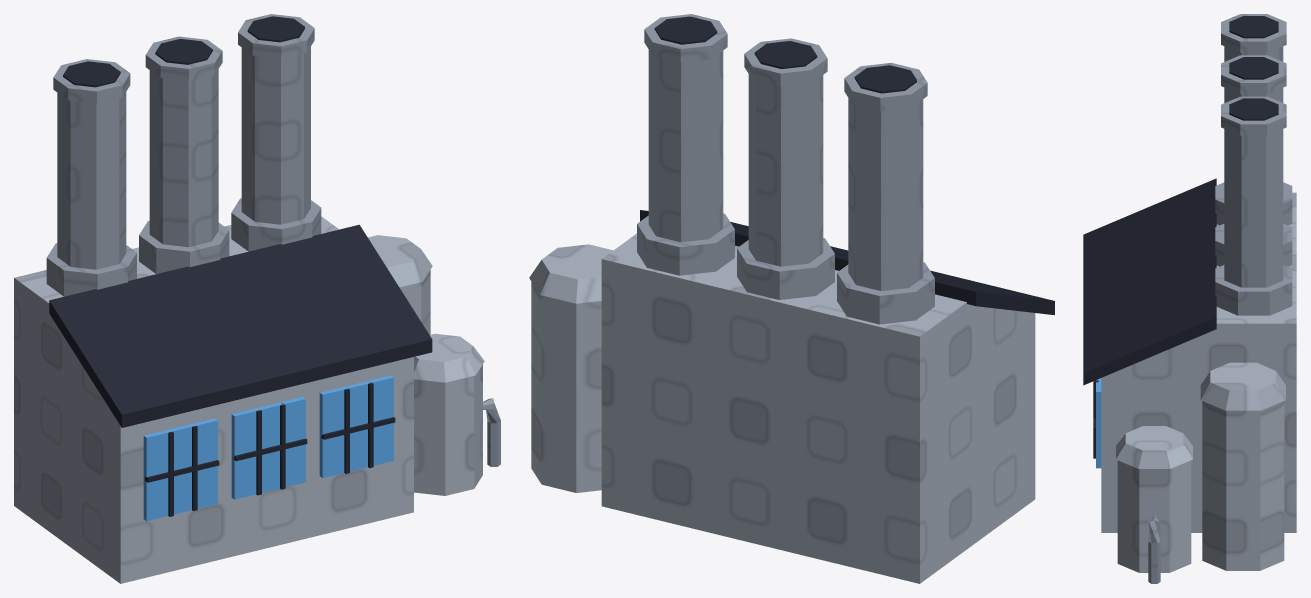
Rendered from Usine_Grise.fbx.
3 views of the same model, side by side, from view 1: azimuth 30°, elevation 25°; view 2: azimuth 150°, elevation 25°; view 3: azimuth 270°, elevation 25° (orthographic). The views are drawn at different scales.
Visible parts, largest first — view 1: Usine_Grise; view 2: Usine_Grise; view 3: Usine_Grise.
Part boxes in pixels (box(x1,y1,x2,y2)): Usine_Grise: box(14, 14, 500, 583); Usine_Grise: box(529, 14, 1054, 583); Usine_Grise: box(1083, 14, 1296, 583).
Size of what is drawn, in the model's own units: 496 by 497 by 240.
Materials: 4 (2 with a texture image).
